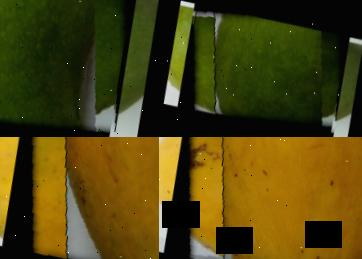PartiallyRipe: (0, 137, 159, 259)
Ripe: (160, 137, 362, 259)
Unripe: (174, 3, 350, 137), (0, 0, 142, 137)
